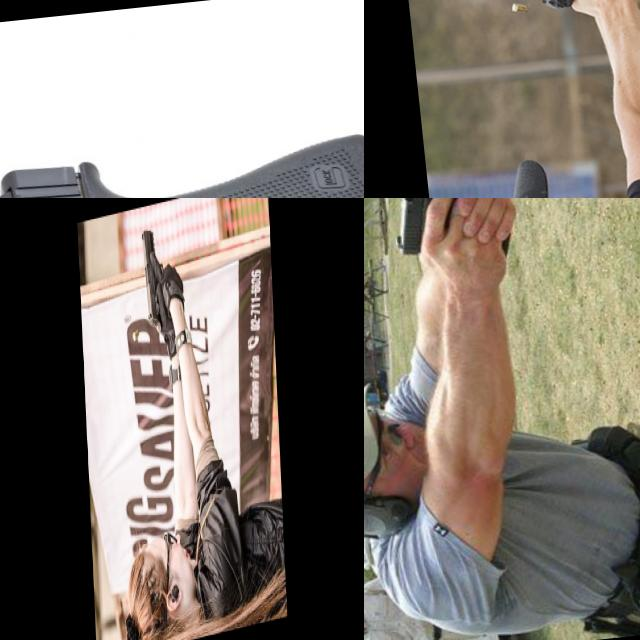handgun: (0, 118, 364, 198), (385, 198, 517, 271), (522, 0, 640, 44), (140, 221, 169, 339)
